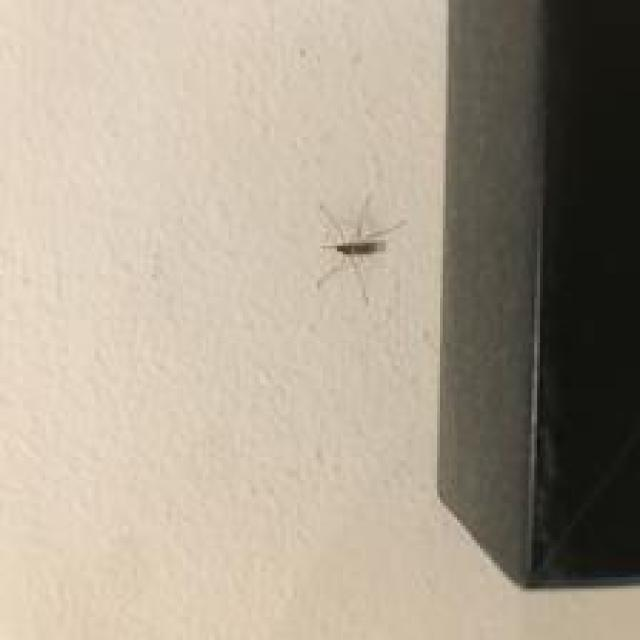Culex: (314, 191, 406, 306)
